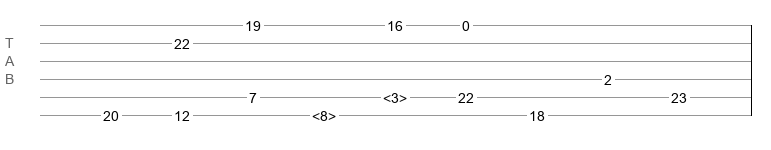0: (462, 18, 470, 28)
12: (174, 108, 190, 118)
16: (387, 18, 403, 28)
18: (529, 108, 545, 118)
19: (245, 18, 261, 28)
2: (604, 72, 612, 82)
20: (103, 108, 119, 118)
22: (174, 36, 190, 46), (458, 90, 474, 100)
23: (671, 90, 687, 100)
7: (249, 90, 257, 100)
harmonic: (312, 108, 336, 118), (383, 90, 407, 100)
